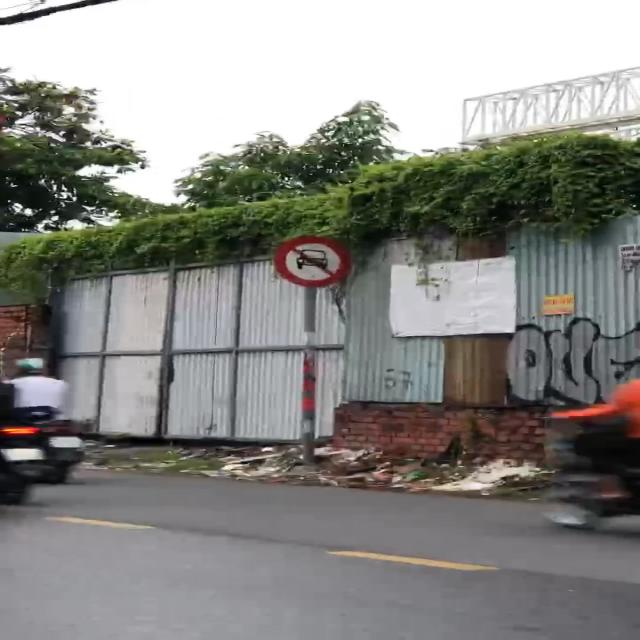Bien bao cam xe oto: (268, 234, 356, 289)
